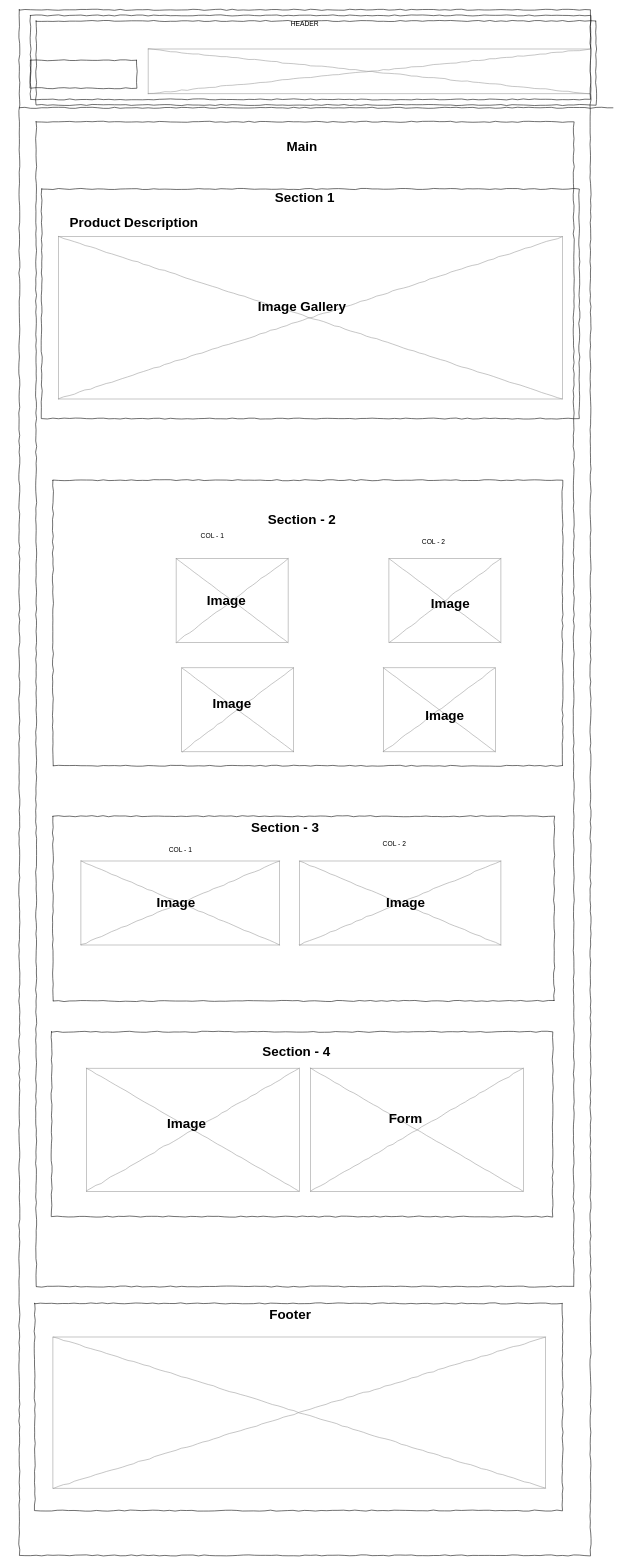
Image size: 623x1565. Some labels were removed from this diagram. Here are the shapes that lost their labels. From the top down, the box of each, then its label:
(30, 60, 137, 88): LOGO
(148, 48, 591, 94): NAVBAR
